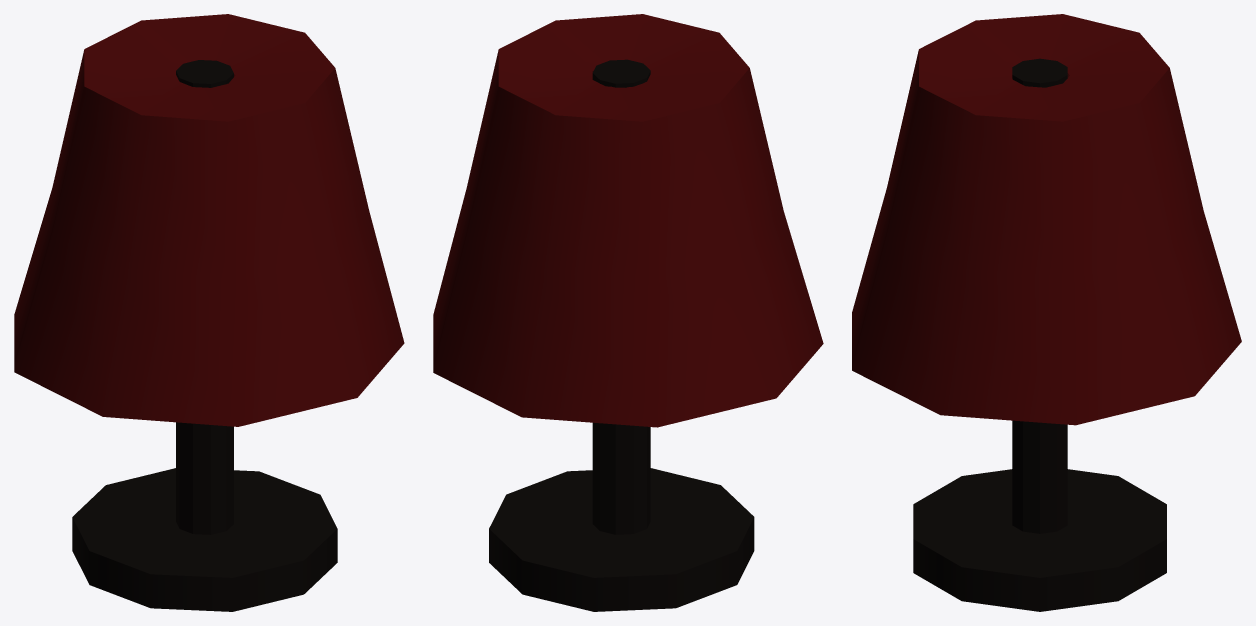
File: Lampara.fbx
3 views of the same model, side by side, from view 1: azimuth 30°, elevation 25°; view 2: azimuth 150°, elevation 25°; view 3: azimuth 270°, elevation 25° (orthographic).
Parts seen in each view (by area): view 1: Lampara, BaseLampara; view 2: Lampara, BaseLampara; view 3: Lampara, BaseLampara.
Boxes of the visible parts, x1,y1,x2,y2 form: Lampara: (14,14,404,426); BaseLampara: (72,60,337,611); Lampara: (433,14,823,427); BaseLampara: (489,59,754,611); Lampara: (852,14,1241,425); BaseLampara: (913,58,1166,611).
Size of the model in its own units: 0.4497 by 0.612 by 0.4428.
